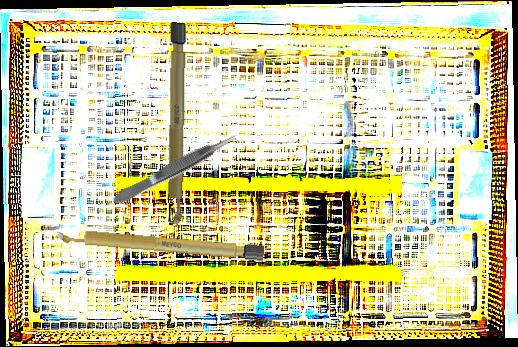Scalpel Handle: (55, 226, 265, 262), (166, 22, 187, 228)
Tissue Forceps: (108, 128, 243, 209)
